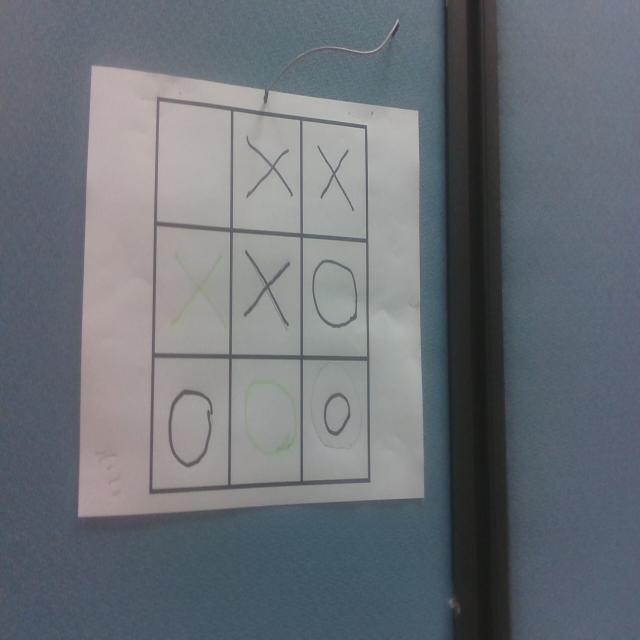null: (157, 102, 231, 232)
o: (245, 379, 298, 457), (167, 387, 213, 468), (311, 256, 359, 329), (322, 391, 351, 437)
table: (152, 90, 369, 494)
x: (174, 253, 224, 330), (244, 250, 290, 330), (247, 139, 294, 202), (318, 144, 354, 215)
